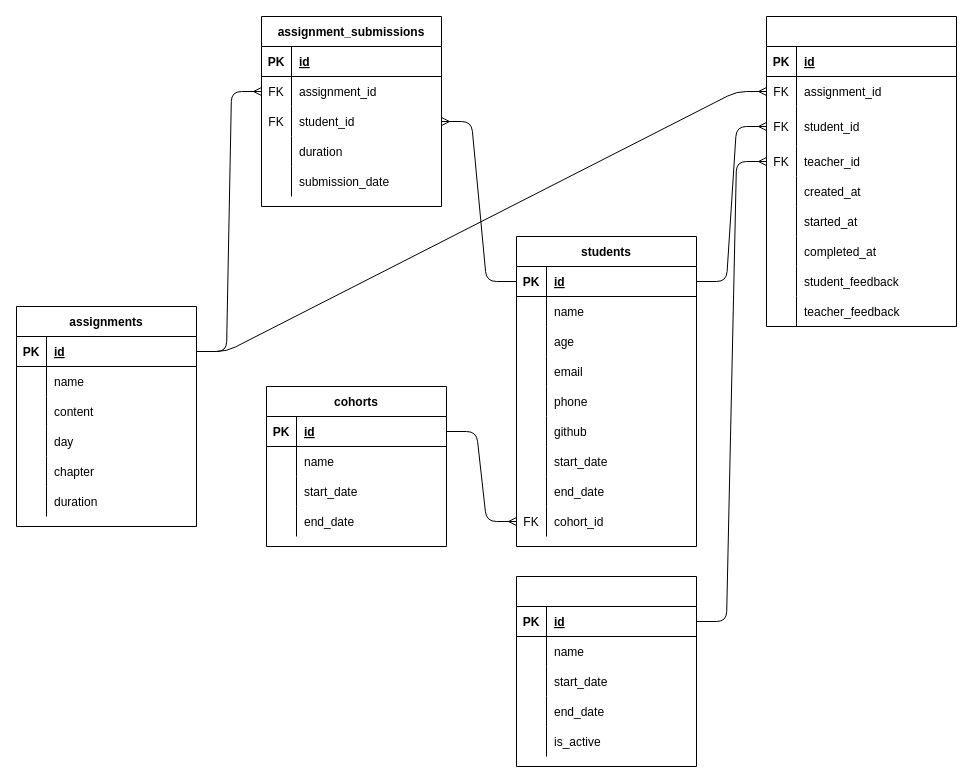
This 973x783 diagram has some shape labels left out. The box of each missing label's shape, as (x1, y1, x2, y2) in pixels:
assistance_request: (766, 16, 956, 326)
teachers: (516, 576, 696, 766)
